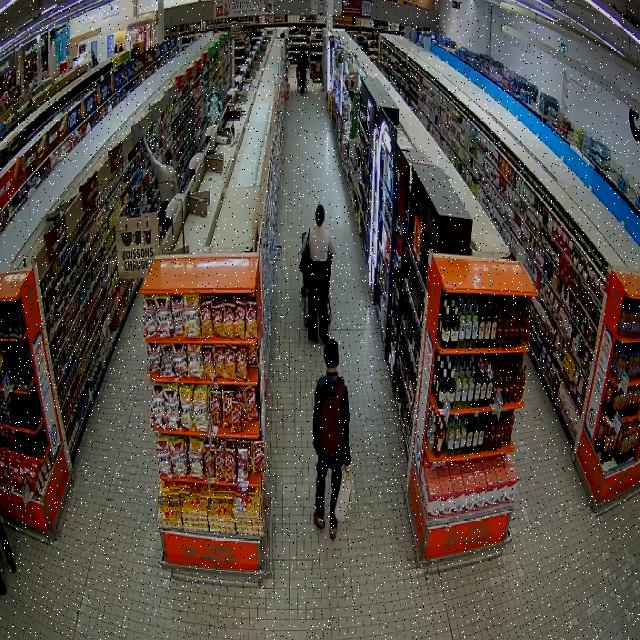bags: (320, 384, 346, 457), (335, 466, 354, 521), (300, 232, 310, 274)
hands: (143, 138, 149, 153), (345, 465, 350, 473)
person: (313, 339, 350, 538), (301, 205, 333, 343), (143, 141, 178, 237)
